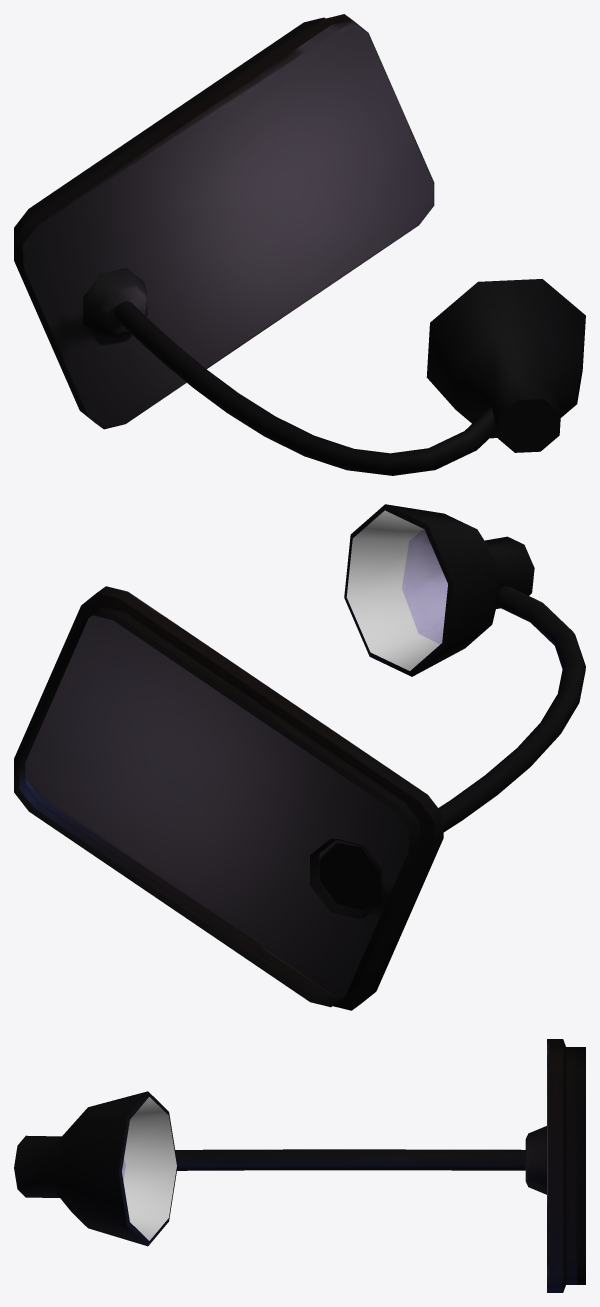
Rendered from Lamp.obj.
3 renders of one model, top to bottom at view 1: azimuth 30°, elevation 25°; view 2: azimuth 150°, elevation 25°; view 3: azimuth 270°, elevation 25°, orthographic. The views are drawn at different scales.
Size of the model in its own units: 0.4991 by 0.4035 by 0.6619.
1 material, 1 textured.
